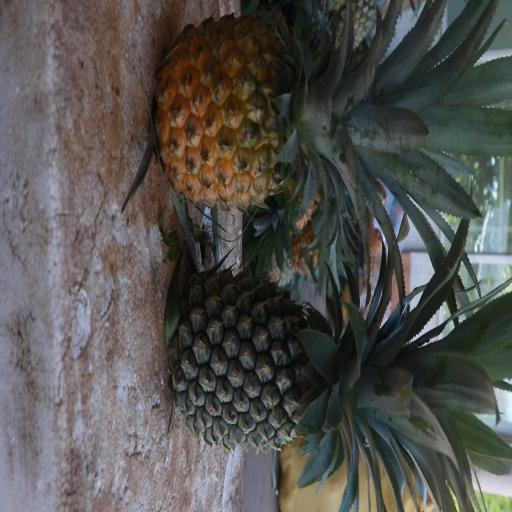Pineapple - v8 v1: (159, 24, 475, 206)
